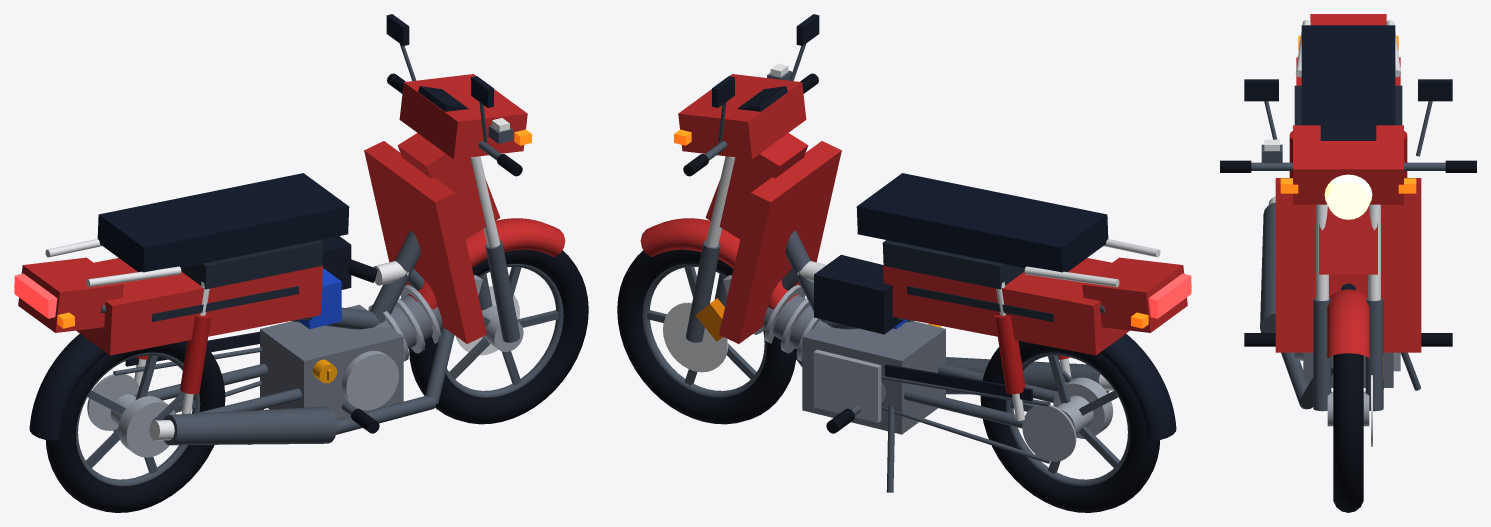
Rendered from underbone_v1.glb.
3 renders of one model, left to right at view 1: azimuth 30°, elevation 25°; view 2: azimuth 150°, elevation 25°; view 3: azimuth 270°, elevation 25°, orthographic. The views are drawn at different scales.
Visible parts, largest first — view 1: body__seat, body__rear_cowl, body__leg_shield, part__tire_rear, part__exhaust, part__tire_front, body__engine_case, body__head_cowl, body__tail, body__rear_fender, body__front_cover, part__fuel_tank (+21 smaller); view 2: body__seat, body__rear_cowl, body__leg_shield, part__tire_front, part__tire_rear, body__engine_case, body__head_cowl, part__air_filter, body__tail, part__drive_chain, body__engine_case_left_cover, body__rear_fender (+21 smaller); view 3: body__leg_shield, body__seat, body__head_cowl, part__front_fork, part__tire_front, body__front_cover, part__exhaust, body__front_fender, part__lighting, body__speedometer, body__tail, body__mirror_1 (+12 smaller).
Part boxes in pixels (bbox=[...]): body__seat: bbox=[97, 173, 349, 272]; body__rear_cowl: bbox=[76, 258, 322, 355]; body__leg_shield: bbox=[364, 141, 486, 343]; part__tire_rear: bbox=[46, 341, 225, 512]; part__exhaust: bbox=[149, 328, 454, 445]; part__tire_front: bbox=[409, 249, 588, 424]; body__engine_case: bbox=[260, 304, 403, 419]; body__head_cowl: bbox=[399, 74, 527, 159]; body__tail: bbox=[18, 257, 123, 332]; body__rear_fender: bbox=[29, 334, 106, 440]; body__front_cover: bbox=[397, 133, 500, 239]; part__fuel_tank: bbox=[181, 240, 323, 289]; body__seat: bbox=[856, 173, 1108, 272]; body__rear_cowl: bbox=[883, 258, 1129, 355]; body__leg_shield: bbox=[719, 141, 841, 343]; part__tire_front: bbox=[617, 249, 796, 424]; part__tire_rear: bbox=[980, 341, 1159, 512]; body__engine_case: bbox=[802, 321, 945, 434]; body__head_cowl: bbox=[678, 74, 806, 159]; part__air_filter: bbox=[814, 254, 904, 334]; body__tail: bbox=[1082, 257, 1187, 332]; part__drive_chain: bbox=[881, 376, 1076, 463]; body__engine_case_left_cover: bbox=[813, 349, 881, 422]; body__rear_fender: bbox=[1099, 334, 1176, 440]; body__leg_shield: bbox=[1275, 178, 1421, 352]; body__seat: bbox=[1301, 25, 1395, 125]; body__head_cowl: bbox=[1293, 125, 1403, 204]; part__front_fork: bbox=[1313, 204, 1383, 411]; part__tire_front: bbox=[1333, 353, 1363, 512]; body__front_cover: bbox=[1319, 206, 1377, 274]; part__exhaust: bbox=[1260, 196, 1333, 409]; body__front_fender: bbox=[1327, 289, 1369, 358]; part__lighting: bbox=[1280, 35, 1416, 219]; body__speedometer: bbox=[1320, 121, 1376, 140]; body__tail: bbox=[1310, 14, 1386, 25]; body__mirror_1: bbox=[1418, 79, 1452, 101].
Bounding box in the file's own units: 1.9 × 1.25 × 0.74.
